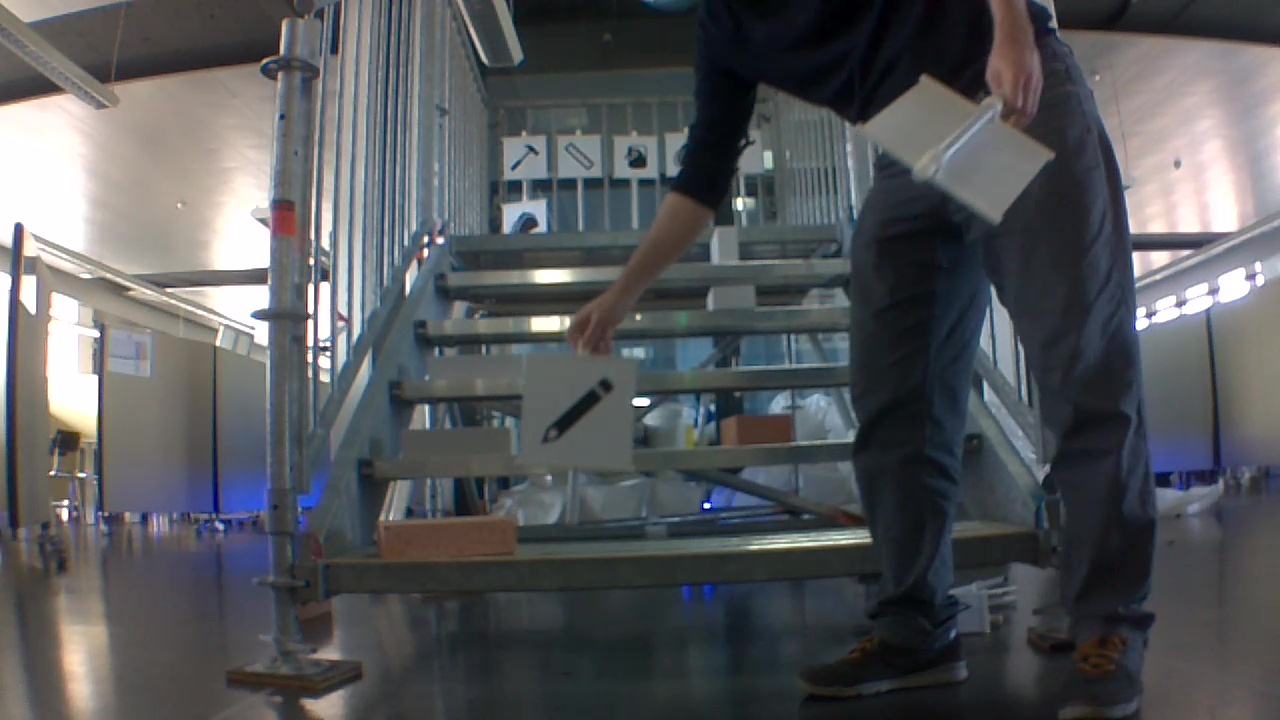brick: (371, 512, 519, 563), (397, 422, 510, 457), (717, 414, 794, 447), (700, 285, 757, 310), (709, 223, 736, 264)
bucket: (623, 143, 652, 172)
edge: (321, 538, 874, 598)
hammer: (510, 141, 543, 176)
pencil: (538, 376, 623, 449)
ruler: (562, 141, 596, 172)
taco: (508, 212, 541, 234)
